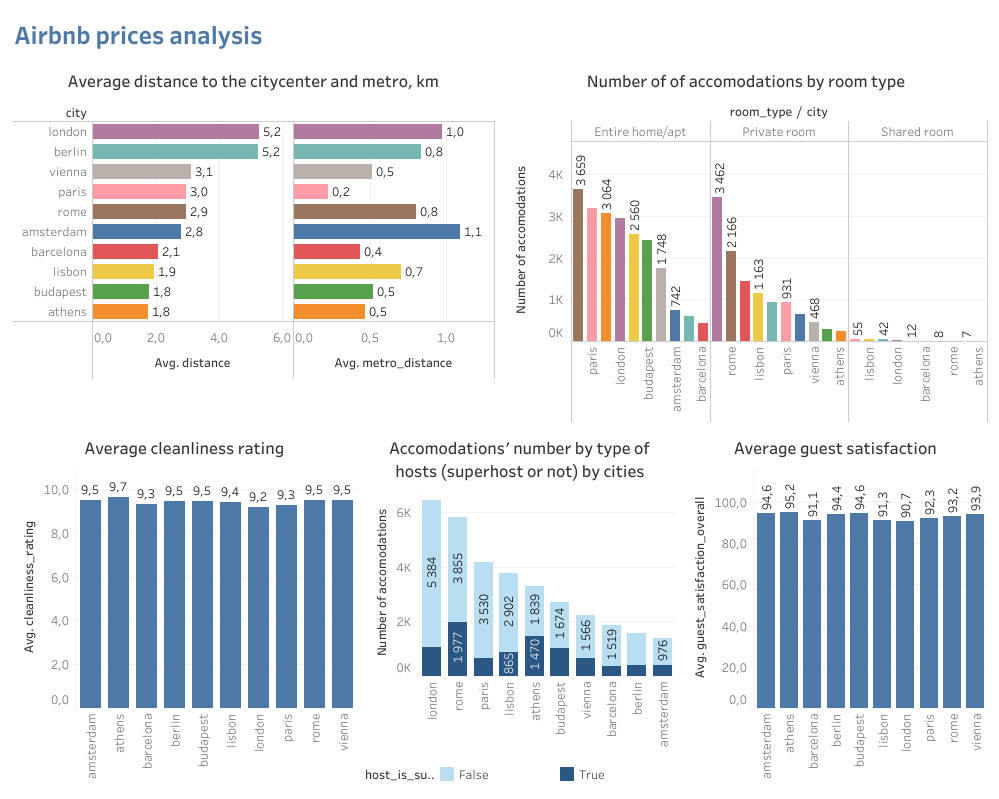

This screenshot's page, from the dashboard's own definition file:
{"tool":"tableau","page":{"name":"Dashboard_4","canvas":[1000,800],"ordinal":4},"visuals":[{"type":"text","box":[8,8,984,51]},{"type":"worksheet","title":"c_dist","mark":"Automatic","rows":["city"],"cols":["distance","metro_distance"],"box":[8,59,492,366.5]},{"type":"worksheet","title":"c_room","mark":"Automatic","rows":["room_type"],"cols":["room_type","city"],"box":[500,59,492,366.5]},{"type":"worksheet","title":"c_clean","mark":"Automatic","rows":["cleanliness_rating"],"cols":["city"],"box":[8,425.5,353,366.5]},{"type":"worksheet","title":"c_host","mark":"Automatic","rows":["host_is_superhost"],"cols":["city"],"box":[361,425.5,318,334.5]},{"type":"worksheet","title":"c_satis","mark":"Automatic","rows":["guest_satisfaction_overall"],"cols":["city"],"box":[679,425.5,313,366.5]},{"type":"legend","title":"c_host","param":"[federated.1g3i3es0u0xrs51gmyu2l13s10mf].[none:host_is_superhost:nk]","box":[361,760,318,32]}]}

Visuals, with their boxes in screenshot pixels (x1, y1, x2, y2), scaled from the page's 1000x800 canvas onto the 999x799 screenshot:
text: (left=8, top=8, right=991, bottom=59)
"c_dist" worksheet: (left=8, top=59, right=500, bottom=425)
"c_room" worksheet: (left=500, top=59, right=991, bottom=425)
"c_clean" worksheet: (left=8, top=425, right=361, bottom=791)
"c_host" worksheet: (left=361, top=425, right=678, bottom=759)
"c_satis" worksheet: (left=678, top=425, right=991, bottom=791)
"c_host" legend: (left=361, top=759, right=678, bottom=791)
